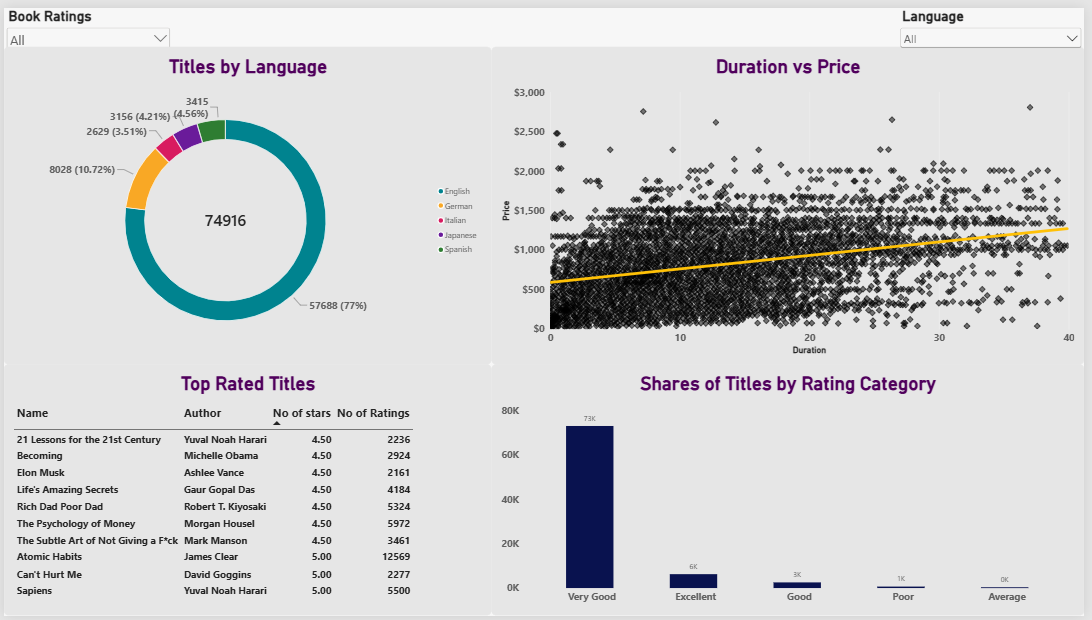

This screenshot's page, from the dashboard's own definition file:
{"tool":"powerbi","page":{"name":"Page 2","canvas":[1920,1080],"ordinal":1},"visuals":[{"type":"scatterChart","title":"Duration vs Price","fields":{"Category":["Audible_Audiobook_Catalog.Name"],"X":["Avg(Audible_Audiobook_Catalog.Hours)"],"Y":["Avg(Audible_Audiobook_Catalog.Price)"]},"box":[866.7,68.9,1053.3,564.4],"z":2000},{"type":"tableEx","title":"Top Rated Titles","fields":{"Values":["Audible_Audiobook_Catalog.Name","Audible_Audiobook_Catalog.Author","Audible_Audiobook_Catalog.No of stars","Audible_Audiobook_Catalog.No of Ratings"]},"box":[0,633.3,866.7,446.7],"z":3000},{"type":"slicer","fields":{"Values":["Audible_Audiobook_Catalog.Language"]},"box":[1588.9,0,331.1,137.8],"z":8000},{"type":"slicer","fields":{"Values":["Audible_Audiobook_Catalog.Book Ratings"]},"box":[0,0,300,133.3],"z":9000},{"type":"clusteredColumnChart","title":"Shares of Titles by Rating Category","fields":{"Category":["Audible_Audiobook_Catalog.Book Ratings"],"Y":["Audible_Audiobook_Catalog.Total Titles"]},"box":[866.7,633.3,1053.3,446.7],"z":10000},{"type":"donutChart","title":"Titles by Language","fields":{"Series":["Audible_Audiobook_Catalog.Language"],"Y":["Audible_Audiobook_Catalog.Total Titles"]},"box":[0,68.9,866.7,564.4],"z":10001}]}

Visuals, with their boxes in screenshot pixels (x1, y1, x2, y2), scaled from the page's 1920x1080 canvas onto the 1092x620 screenshot:
"Duration vs Price" scatterChart: (493, 40, 1091, 364)
"Top Rated Titles" tableEx: (0, 364, 493, 619)
slicer - Audible_Audiobook_Catalog.Language: (904, 0, 1091, 79)
slicer - Audible_Audiobook_Catalog.Book Ratings: (0, 0, 171, 77)
"Shares of Titles by Rating Category" clusteredColumnChart: (493, 364, 1091, 619)
"Titles by Language" donutChart: (0, 40, 493, 364)
